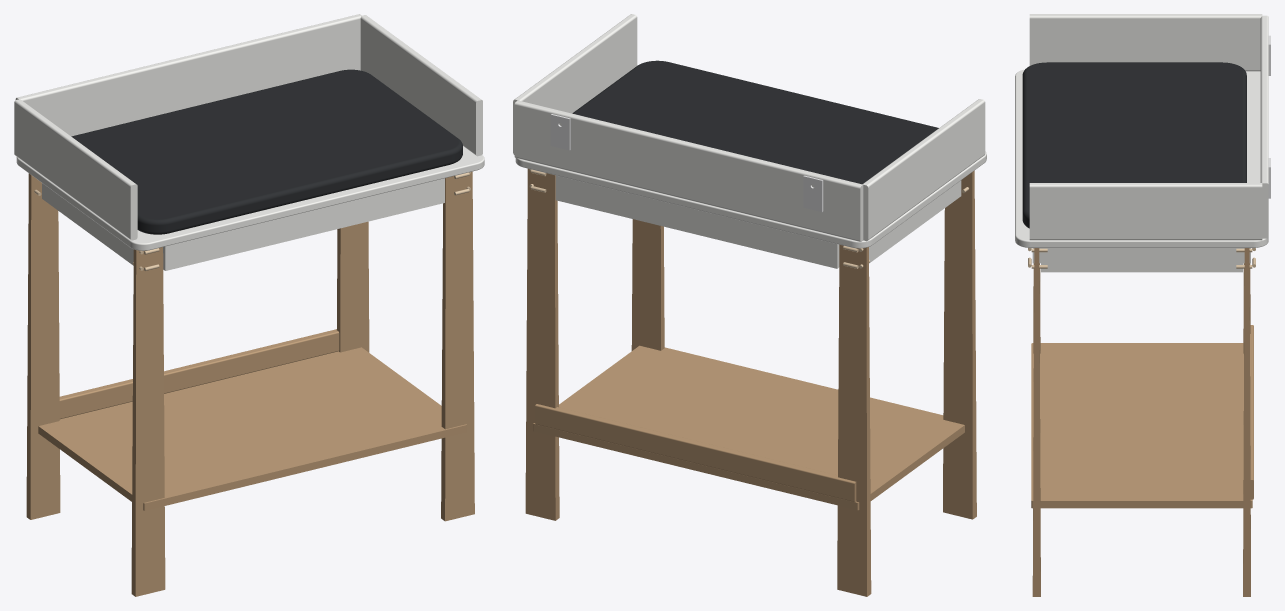
3 renders of one model, left to right at view 1: azimuth 30°, elevation 25°; view 2: azimuth 150°, elevation 25°; view 3: azimuth 270°, elevation 25°, orthographic.
Visible parts, largest first — view 1: coat.1, wood.5, body.6, wood.4, wood.3, wood.2, body.8, body.3, body.7, wood.6, body.1, wood.1 (+1 smaller); view 2: wood.5, coat.1, body.6, wood.2, wood.1, wood.4, wood.6, body.8, body.2, body.7, wood.3, body.1 (+3 smaller); view 3: wood.5, coat.1, body.7, body.8, body.1, body.4, wood.3, wood.1, body.6, wood.6.
Part boxes in pixels (x1,y1,x2,y2): coat.1: [71, 69, 462, 234]; wood.5: [38, 347, 466, 510]; body.6: [15, 14, 361, 136]; wood.4: [131, 247, 165, 596]; wood.3: [441, 171, 474, 521]; wood.2: [26, 173, 60, 519]; body.8: [14, 99, 137, 240]; body.3: [163, 178, 444, 270]; body.7: [360, 15, 482, 156]; wood.6: [59, 329, 339, 419]; body.1: [16, 146, 484, 250]; wood.1: [336, 221, 369, 352]; wood.5: [533, 345, 964, 510]; coat.1: [572, 60, 938, 184]; body.6: [514, 100, 863, 241]; wood.2: [837, 244, 871, 596]; wood.1: [525, 168, 559, 520]; wood.4: [943, 170, 976, 519]; wood.6: [535, 404, 856, 502]; body.8: [862, 99, 985, 241]; body.2: [555, 175, 839, 268]; body.7: [513, 14, 637, 154]; wood.3: [631, 219, 664, 350]; body.1: [515, 151, 986, 248]; wood.5: [1031, 343, 1252, 508]; coat.1: [1022, 62, 1246, 228]; body.7: [1029, 183, 1262, 240]; body.8: [1029, 14, 1262, 71]; body.1: [1015, 69, 1268, 247]; body.4: [1041, 248, 1242, 272]; wood.3: [1032, 248, 1040, 596]; wood.1: [1243, 248, 1250, 596]; body.6: [1260, 15, 1268, 238]; wood.6: [1250, 325, 1253, 499].
Bounding box in the file's own units: 0.9 × 1.01 × 0.5645.
